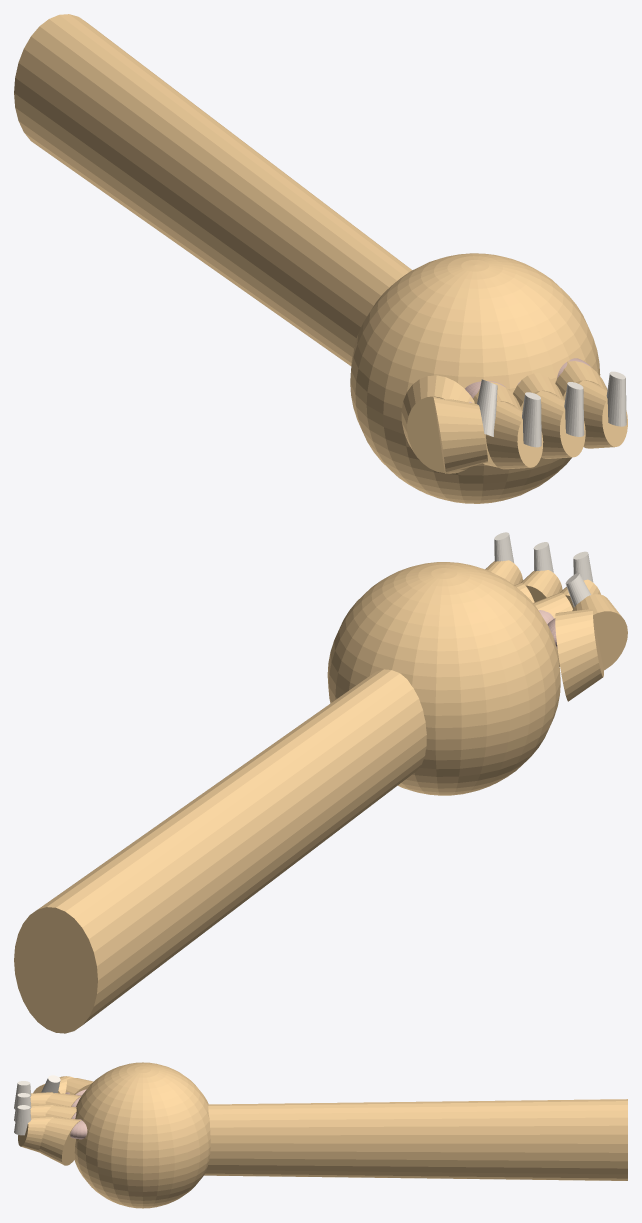
File: paw_stubby.glb
3 views of the same model, one above another, from view 1: azimuth 30°, elevation 25°; view 2: azimuth 150°, elevation 25°; view 3: azimuth 270°, elevation 25° (orthographic). The views are drawn at different scales.
Parts seen in each view (by area): view 1: Paw; view 2: Paw; view 3: Paw.
Boxes of the visible parts, x1,y1,x2,y2 form: Paw: (14, 14, 627, 503); Paw: (14, 532, 627, 1033); Paw: (14, 1062, 627, 1208).
Size of the model in its own units: 0.1994 by 0.192 by 0.807.
